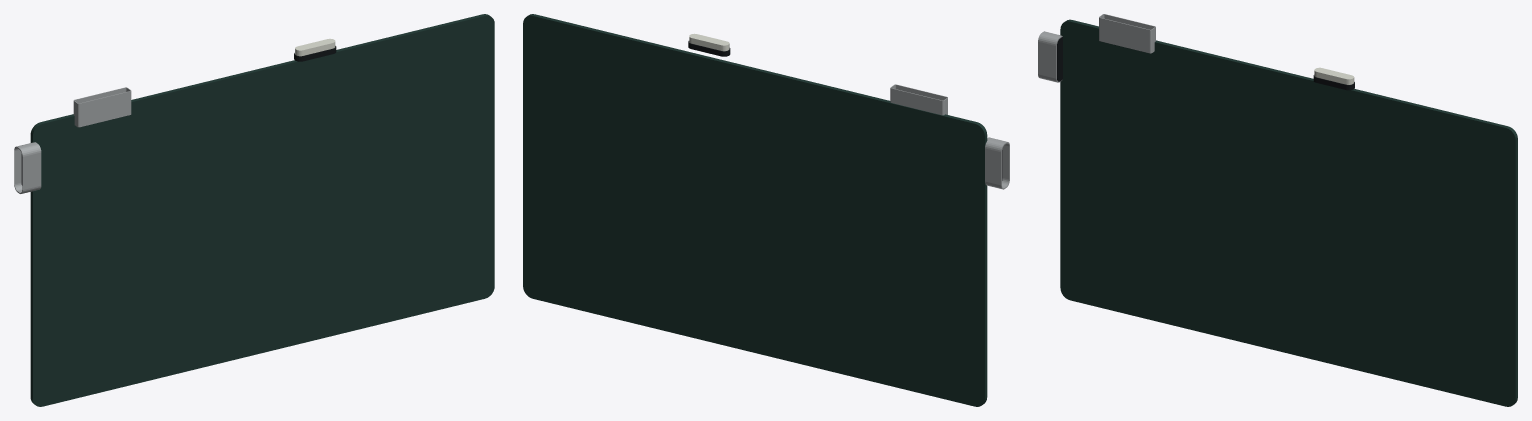
File: hardware.glb
The picture shows the model from 3 angles, left to right: view 1: azimuth 30°, elevation 25°; view 2: azimuth 150°, elevation 25°; view 3: azimuth 330°, elevation 25°; orthographic projection.
Parts seen in each view (by area): view 1: PaperMono_internal_backing, PaperMono_TF_metal_socket, PaperMono_USB_C_metal_socket, PaperMono_LED_light_guide; view 2: PaperMono_internal_backing, PaperMono_USB_C_metal_socket, PaperMono_TF_metal_socket, PaperMono_LED_light_guide; view 3: PaperMono_internal_backing, PaperMono_TF_metal_socket, PaperMono_USB_C_metal_socket, PaperMono_LED_light_guide.
Boxes of the visible parts, x1,y1,x2,y2 form: PaperMono_internal_backing: (30,14,494,406); PaperMono_TF_metal_socket: (73,87,131,127); PaperMono_USB_C_metal_socket: (14,142,41,193); PaperMono_LED_light_guide: (295,38,335,56); PaperMono_internal_backing: (523,14,987,406); PaperMono_USB_C_metal_socket: (985,137,1009,189); PaperMono_TF_metal_socket: (890,84,947,115); PaperMono_LED_light_guide: (689,33,729,51); PaperMono_internal_backing: (1060,19,1517,406); PaperMono_TF_metal_socket: (1099,14,1155,53); PaperMono_USB_C_metal_socket: (1038,31,1062,82); PaperMono_LED_light_guide: (1314,67,1354,84).
Bounding box in the file's own units: 97.34 × 57.89 × 3.03.
